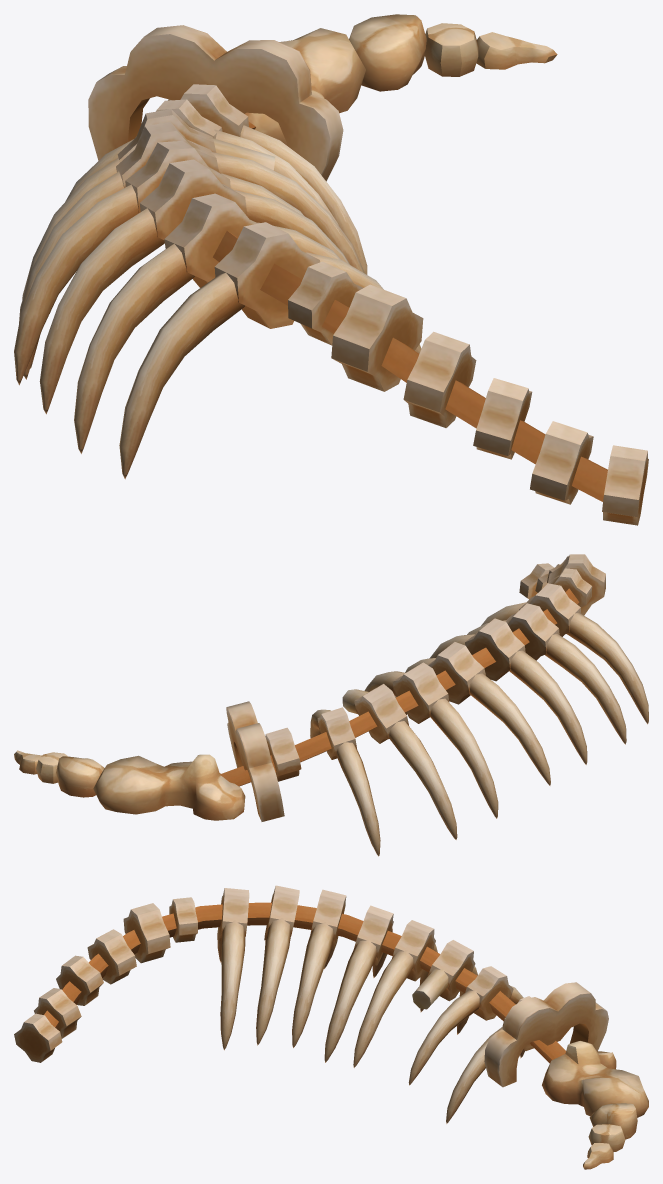
The model's file is Stage_ShaMo_GuTou03.FBX.
3 views of the same model, one above another, from view 1: azimuth 30°, elevation 25°; view 2: azimuth 150°, elevation 25°; view 3: azimuth 270°, elevation 25° (orthographic). The views are drawn at different scales.
Parts seen in each view (by area): view 1: Stage_ShaMo_GuTou03; view 2: Stage_ShaMo_GuTou03; view 3: Stage_ShaMo_GuTou03.
Boxes of the visible parts, bbox=[...] form: Stage_ShaMo_GuTou03: bbox=[14, 14, 648, 525]; Stage_ShaMo_GuTou03: bbox=[14, 554, 648, 856]; Stage_ShaMo_GuTou03: bbox=[14, 885, 648, 1169].
Size of the model in its own units: 1021 by 360 by 1313.
